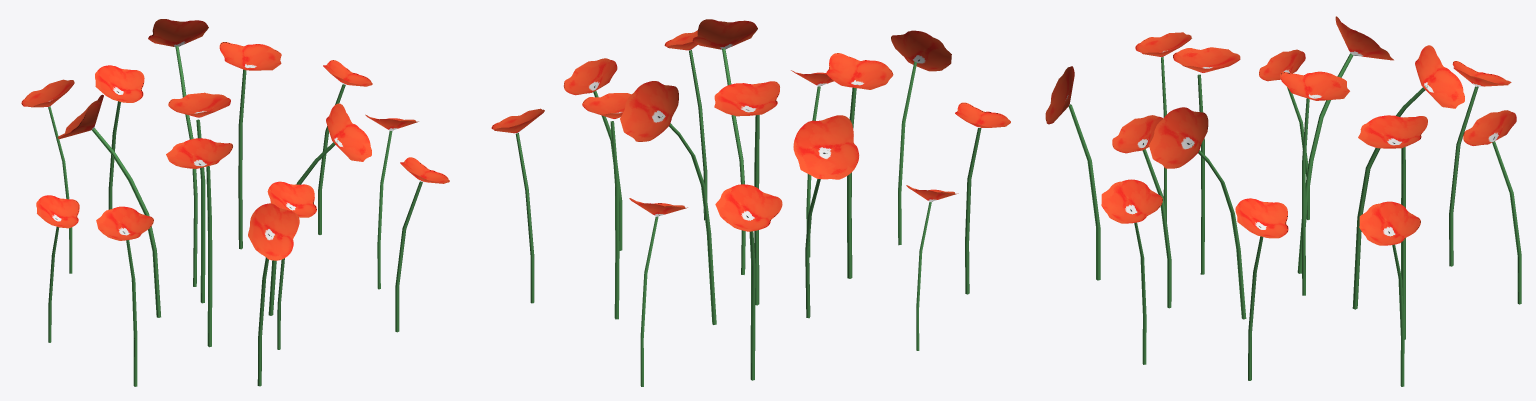
The model's file is SM_flower_group_04.fbx.
3 renders of one model, left to right at view 1: azimuth 30°, elevation 25°; view 2: azimuth 150°, elevation 25°; view 3: azimuth 270°, elevation 25°, orthographic. The views are drawn at different scales.
Visible parts, largest first — view 1: Cylinder039; view 2: Cylinder039; view 3: Cylinder039.
Boxes of the visible parts, x1,y1,x2,y2 form: Cylinder039: (21, 19, 449, 386); Cylinder039: (491, 19, 1010, 386); Cylinder039: (1045, 16, 1521, 386).
Bounding box in the file's own units: 41.35 × 25.58 × 41.13.
